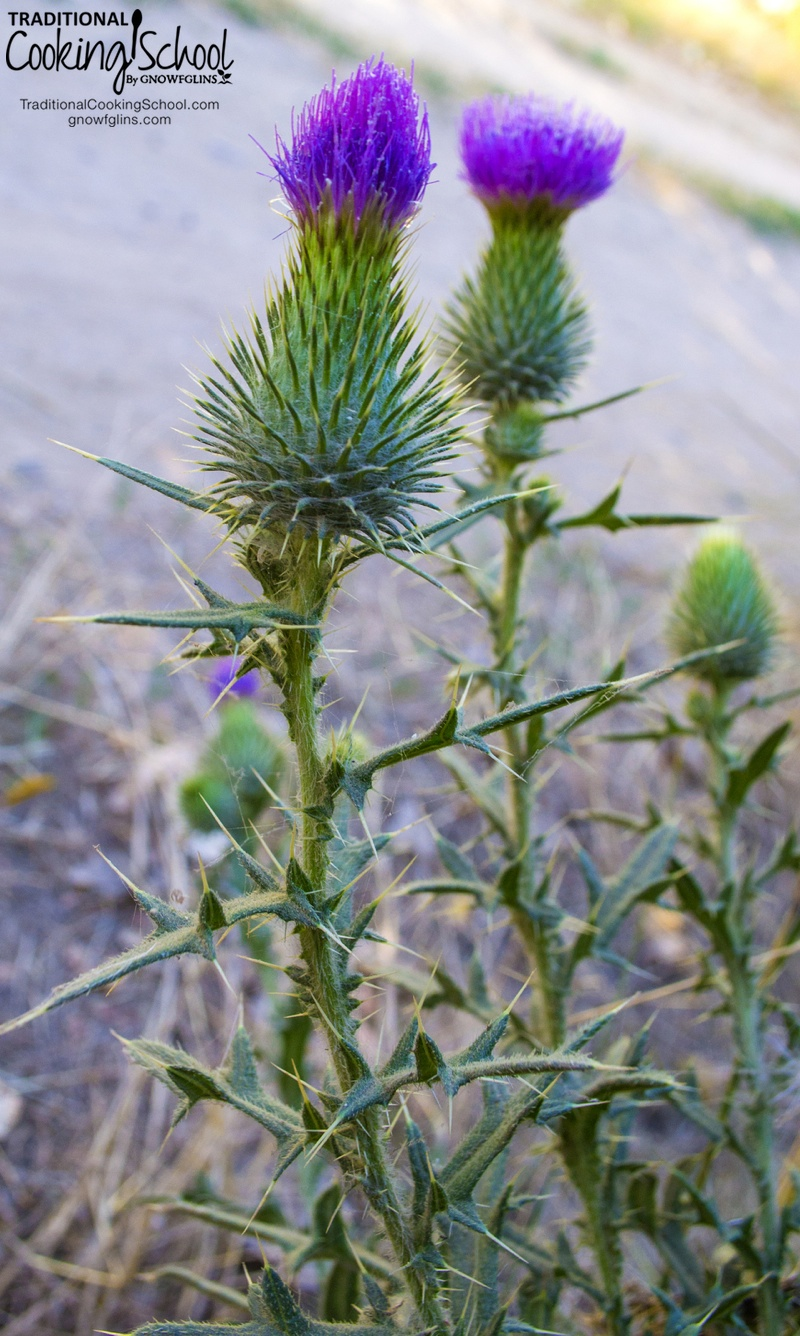thistle: (193, 57, 487, 552), (458, 92, 614, 413)
